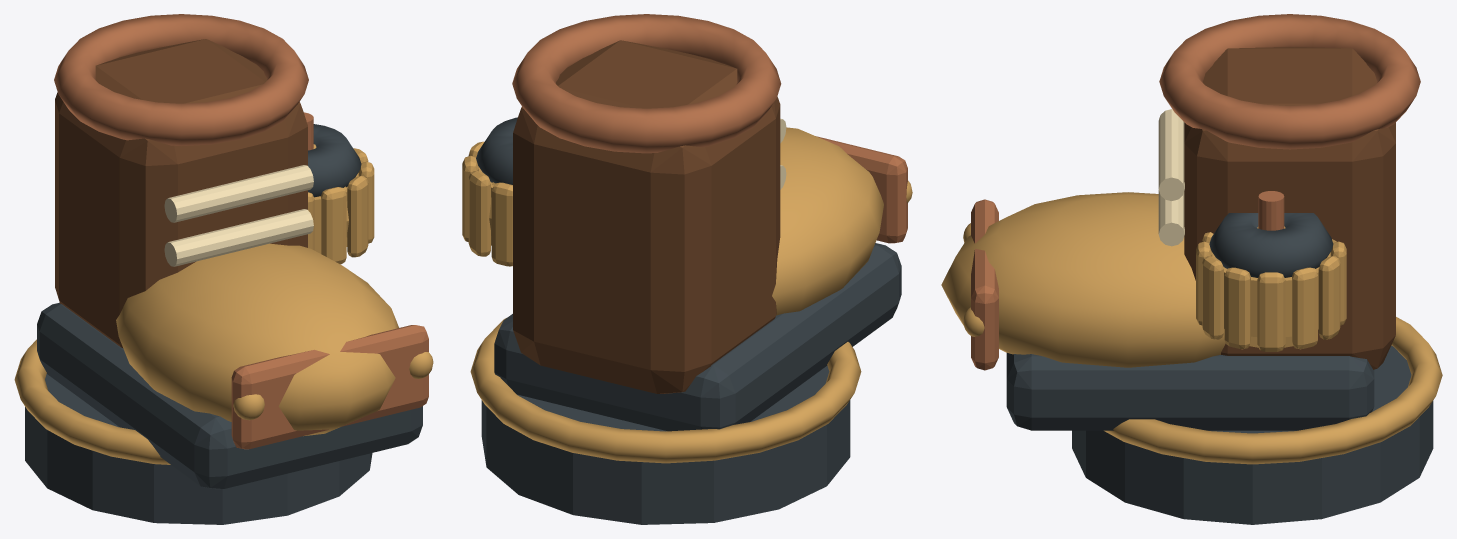
Rendered from kick.glb.
3 views of the same model, side by side, from view 1: azimuth 30°, elevation 25°; view 2: azimuth 150°, elevation 25°; view 3: azimuth 270°, elevation 25° (orthographic). The views are drawn at different scales.
Parts seen in each view (by area): view 1: SM_UpgradeKick; view 2: SM_UpgradeKick; view 3: SM_UpgradeKick.
Part boxes in pixels (x1,y1,x2,y2): SM_UpgradeKick: (14,14,433,524); SM_UpgradeKick: (462,14,912,524); SM_UpgradeKick: (941,14,1442,524).
Bounding box in the file's own units: 0.6359 × 0.6803 × 0.805.
